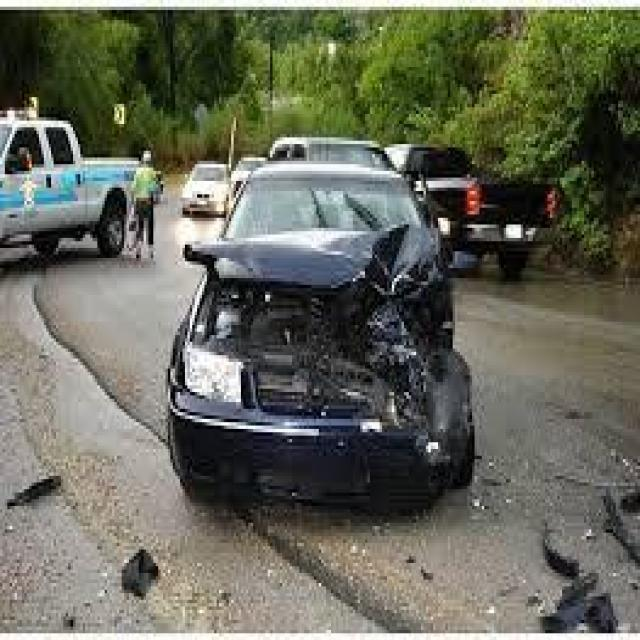damaged: (178, 225, 474, 472)
